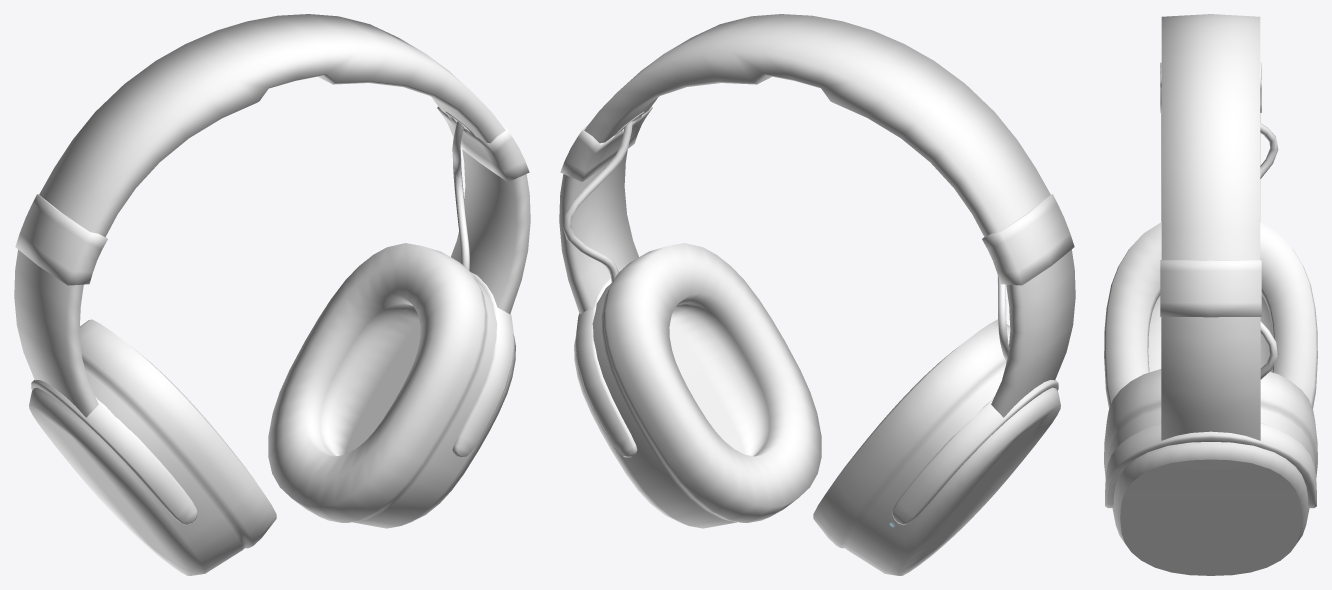
File: skullcandy-crusher.glb
3 renders of one model, left to right at view 1: azimuth 30°, elevation 25°; view 2: azimuth 150°, elevation 25°; view 3: azimuth 270°, elevation 25°, orthographic. The views are drawn at different scales.
Visible parts, largest first — view 1: SKULL_PART_01, SKULL_PART_04, SKULL_PART_00, SKULL_PART_09, SKULL_PART_10, SKULL_PART_05, SKULL_PART_02, SKULL_PART_03, SKULL_PART_06, SKULL_PART_08; view 2: SKULL_PART_01, SKULL_PART_04, SKULL_PART_00, SKULL_PART_09, SKULL_PART_10, SKULL_PART_05, SKULL_PART_02, SKULL_PART_03, SKULL_PART_06, SKULL_PART_08, SKULL_PART_07; view 3: SKULL_PART_01, SKULL_PART_04, SKULL_PART_00, SKULL_PART_10, SKULL_PART_06, SKULL_PART_03, SKULL_PART_08, SKULL_PART_07.
Boxes of the visible parts, box(x1,y1,x2,y2) form: SKULL_PART_01: box(268, 243, 515, 528); SKULL_PART_04: box(39, 14, 505, 237); SKULL_PART_00: box(29, 319, 276, 575); SKULL_PART_09: box(14, 249, 98, 417); SKULL_PART_10: box(451, 149, 530, 313); SKULL_PART_05: box(15, 194, 107, 285); SKULL_PART_02: box(31, 380, 197, 525); SKULL_PART_03: box(452, 272, 513, 457); SKULL_PART_06: box(437, 106, 529, 181); SKULL_PART_08: box(452, 121, 469, 270); SKULL_PART_01: box(574, 243, 821, 528); SKULL_PART_04: box(584, 14, 1050, 237); SKULL_PART_00: box(813, 319, 1060, 575); SKULL_PART_09: box(991, 249, 1075, 417); SKULL_PART_10: box(559, 149, 638, 313); SKULL_PART_05: box(982, 194, 1074, 285); SKULL_PART_02: box(892, 380, 1058, 525); SKULL_PART_03: box(576, 277, 637, 457); SKULL_PART_06: box(560, 106, 652, 181); SKULL_PART_08: box(562, 121, 632, 282); SKULL_PART_07: box(997, 275, 1009, 362); SKULL_PART_01: box(1104, 369, 1317, 575); SKULL_PART_04: box(1161, 14, 1260, 260); SKULL_PART_00: box(1104, 222, 1317, 408); SKULL_PART_10: box(1161, 317, 1260, 440); SKULL_PART_06: box(1160, 260, 1261, 317); SKULL_PART_03: box(1105, 423, 1316, 508); SKULL_PART_08: box(1260, 321, 1278, 379); SKULL_PART_07: box(1260, 123, 1278, 178).
Bounding box in the file's own units: 937 × 960 × 382.
4 materials, 4 textured.
